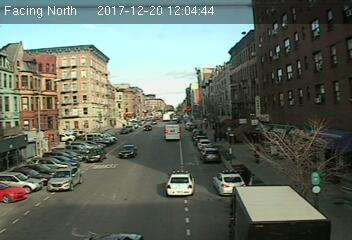car: (46, 166, 84, 193), (84, 148, 107, 163), (118, 144, 139, 160), (202, 148, 221, 164)
police: (211, 168, 248, 196), (166, 169, 195, 199)
truck: (163, 123, 182, 144)
ups: (229, 183, 332, 240)
